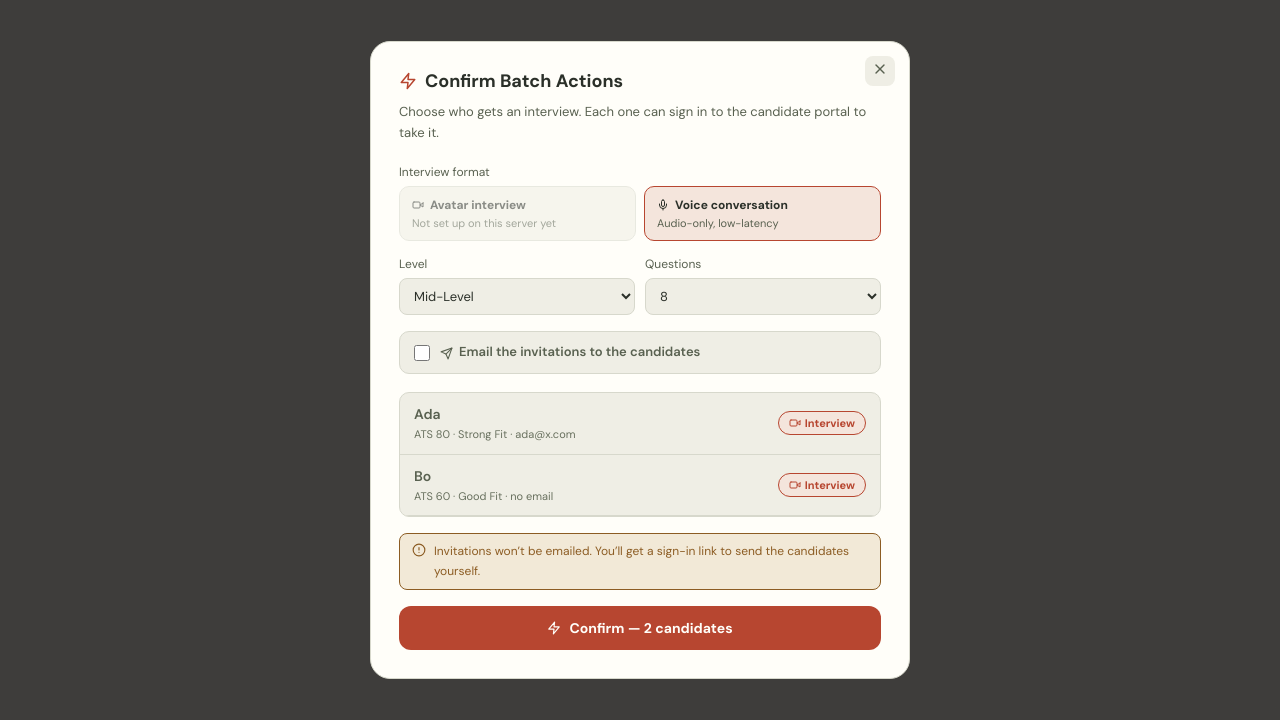
Test: the batch dialog › counts only the candidates who get an interview
Step 1. Click the button "Interview" in the row of "· ada@x.com" → (822, 424), box x1=778 y1=412 x2=866 y2=436
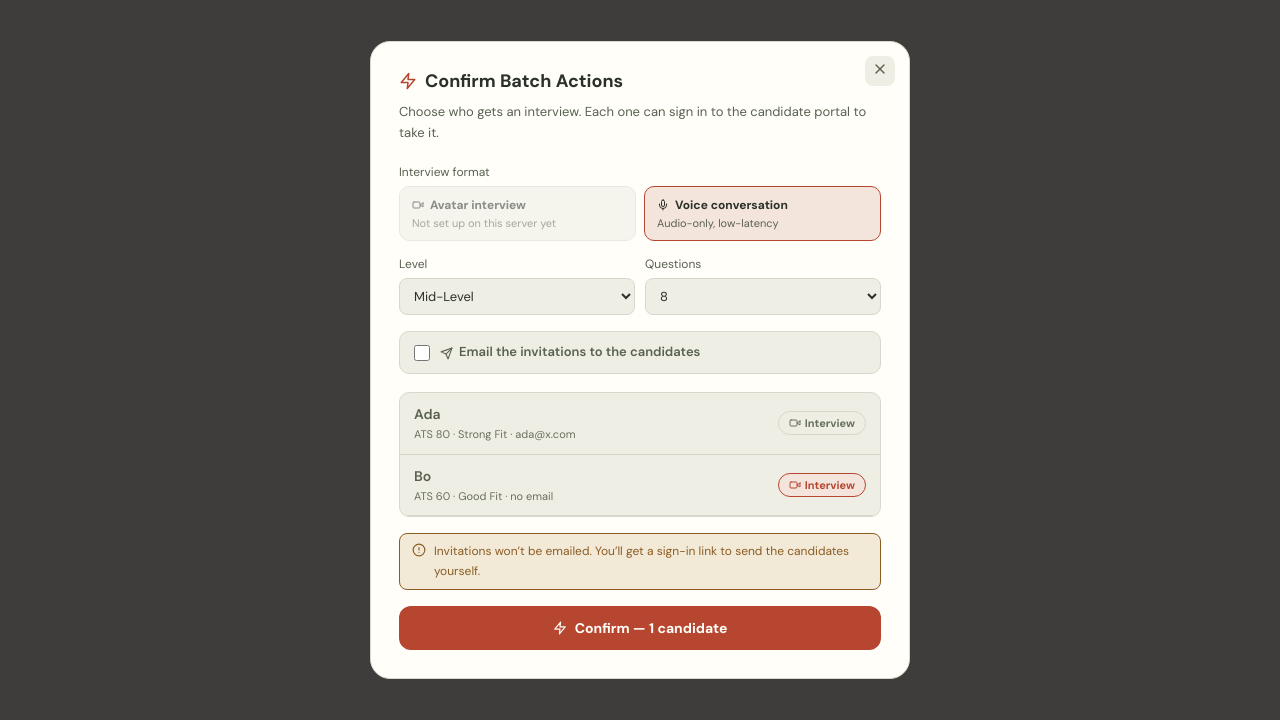
Check: the button "Confirm — 1 candidate" is shown, box x1=399 y1=606 x2=881 y2=650
